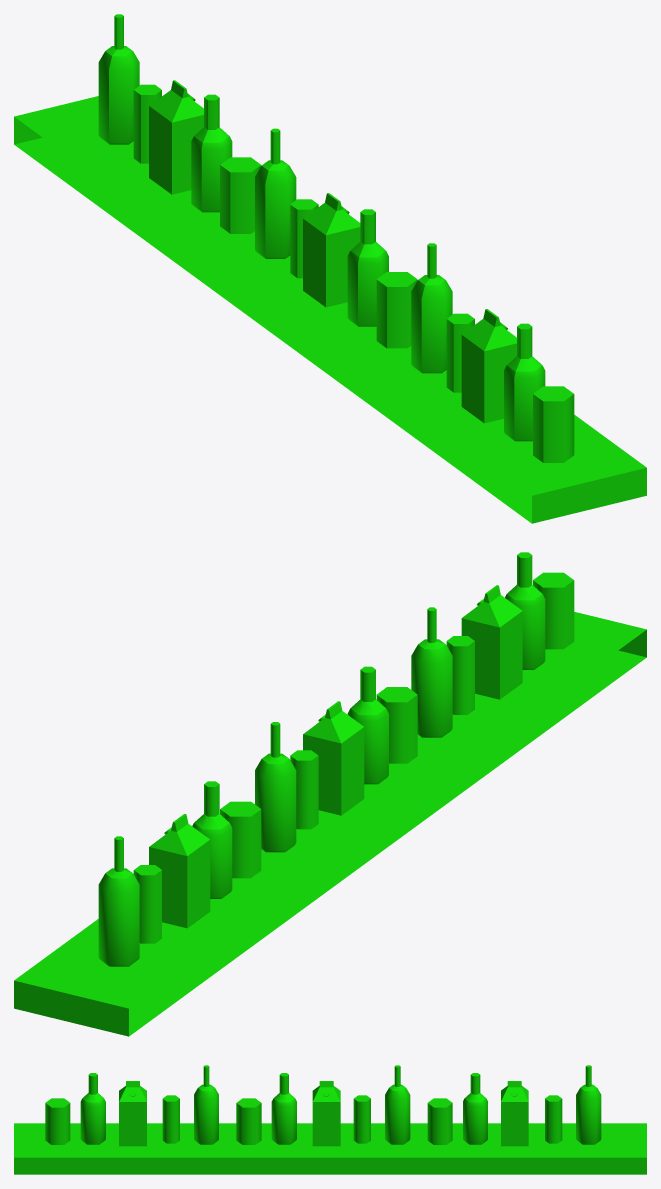
File: StandBebidas.fbx
3 views of the same model, one above another, from view 1: azimuth 30°, elevation 25°; view 2: azimuth 150°, elevation 25°; view 3: azimuth 270°, elevation 25° (orthographic). The views are drawn at different scales.
Visible parts, largest first — view 1: Repisa, Botellas2, Botellas1, Leche; view 2: Repisa, Botellas2, Leche, Botellas1; view 3: Repisa, Botellas2, Botellas1, Leche.
Boxes of the visible parts, x1,y1,x2,y2 form: Repisa: [14, 96, 646, 523]; Botellas2: [98, 14, 474, 392]; Botellas1: [133, 84, 574, 462]; Leche: [149, 80, 516, 423]; Repisa: [14, 612, 646, 1036]; Botellas2: [98, 607, 474, 966]; Leche: [149, 585, 522, 928]; Botellas1: [133, 552, 574, 943]; Repisa: [14, 1123, 646, 1174]; Botellas2: [162, 1065, 601, 1144]; Botellas1: [45, 1073, 562, 1144]; Leche: [119, 1081, 528, 1146].
Size of the model in its own units: 19.78 by 24.57 by 154.
